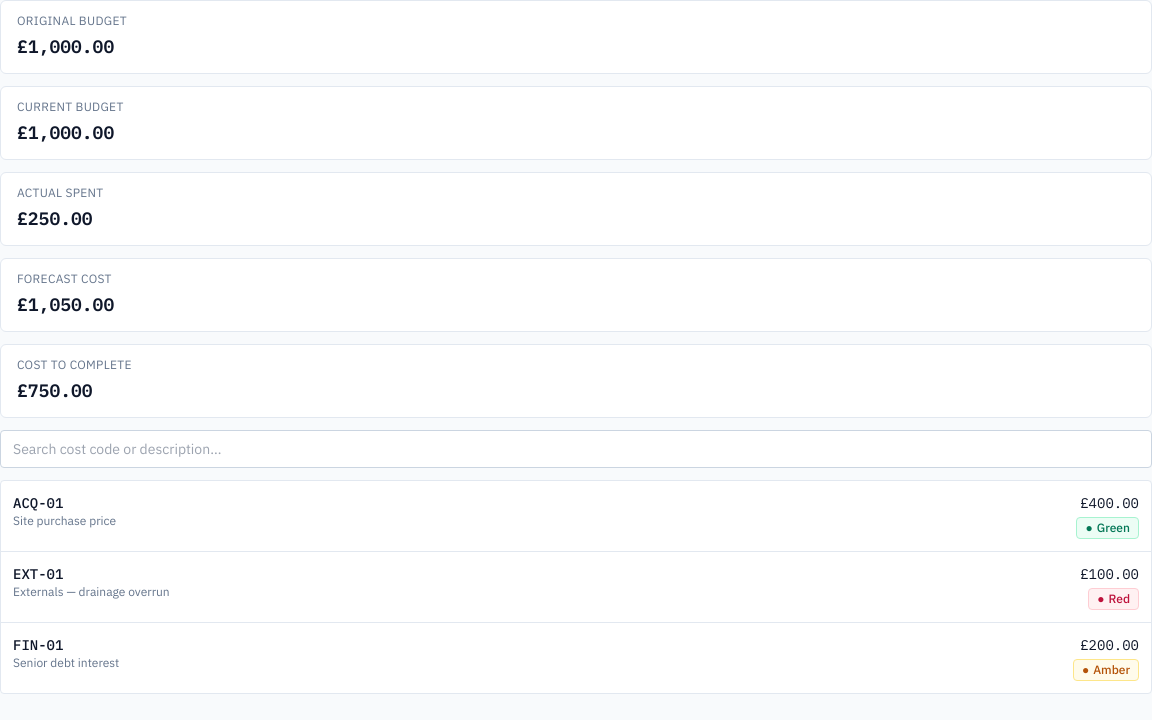
Mobile line drawer — tap → drawer → editable Notes only › drawer fields are read-only — no input/budget edit affordance
The image size is (1152, 720).
Click the button with test id "bg2-mobile-line-l-drainage": (38, 574) [1,552,1151,622]
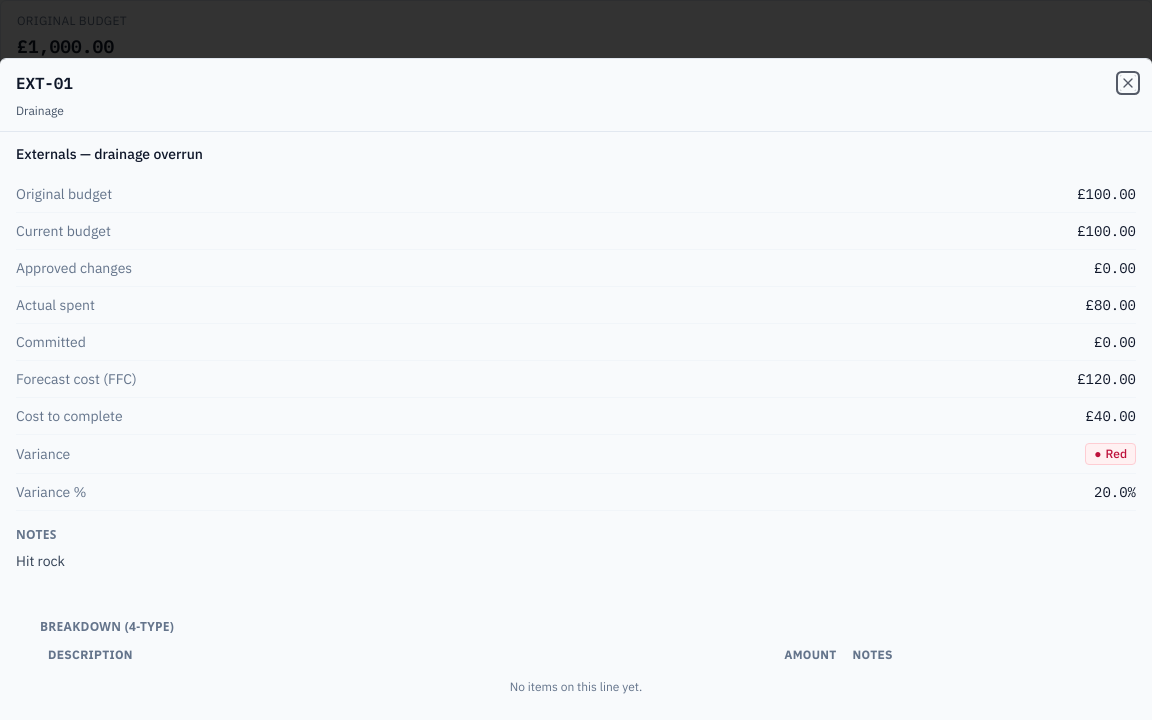
Expected: the dialog with test id "bg2-mobile-drawer" is shown
